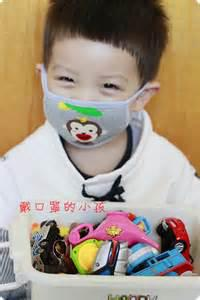OK: (42, 45, 142, 145)
